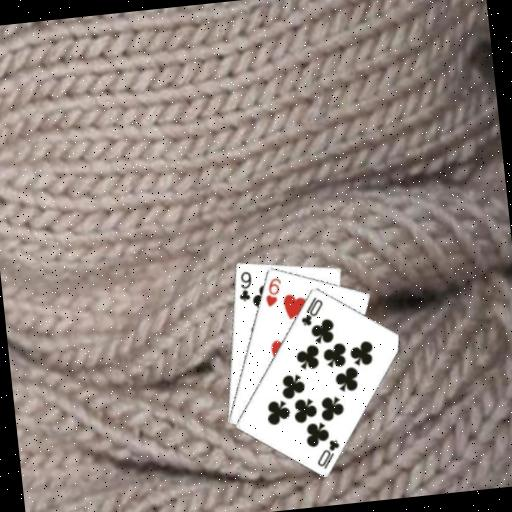10C: (312, 435, 344, 471), (295, 293, 327, 328)
6H: (261, 274, 286, 309)
9C: (233, 267, 255, 304)
